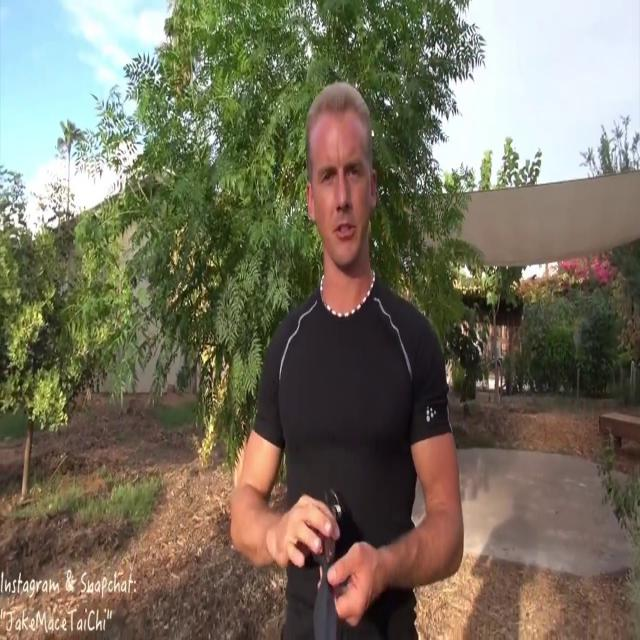knife: (305, 486, 345, 639)
